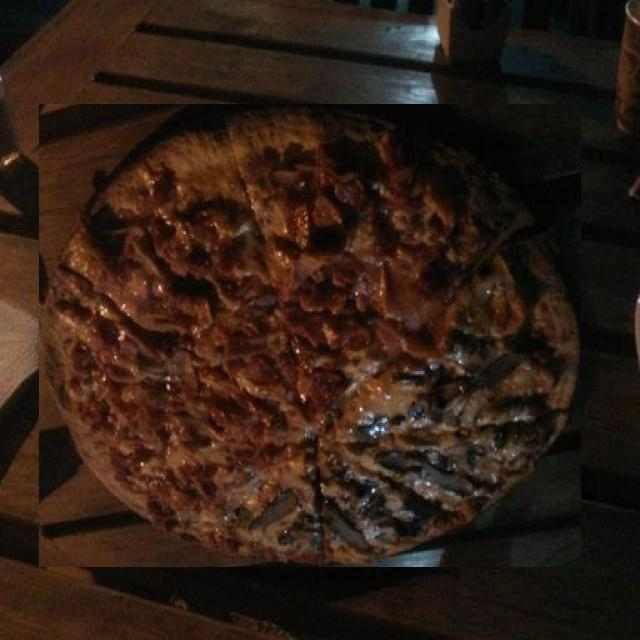pizza: (39, 104, 581, 567)
